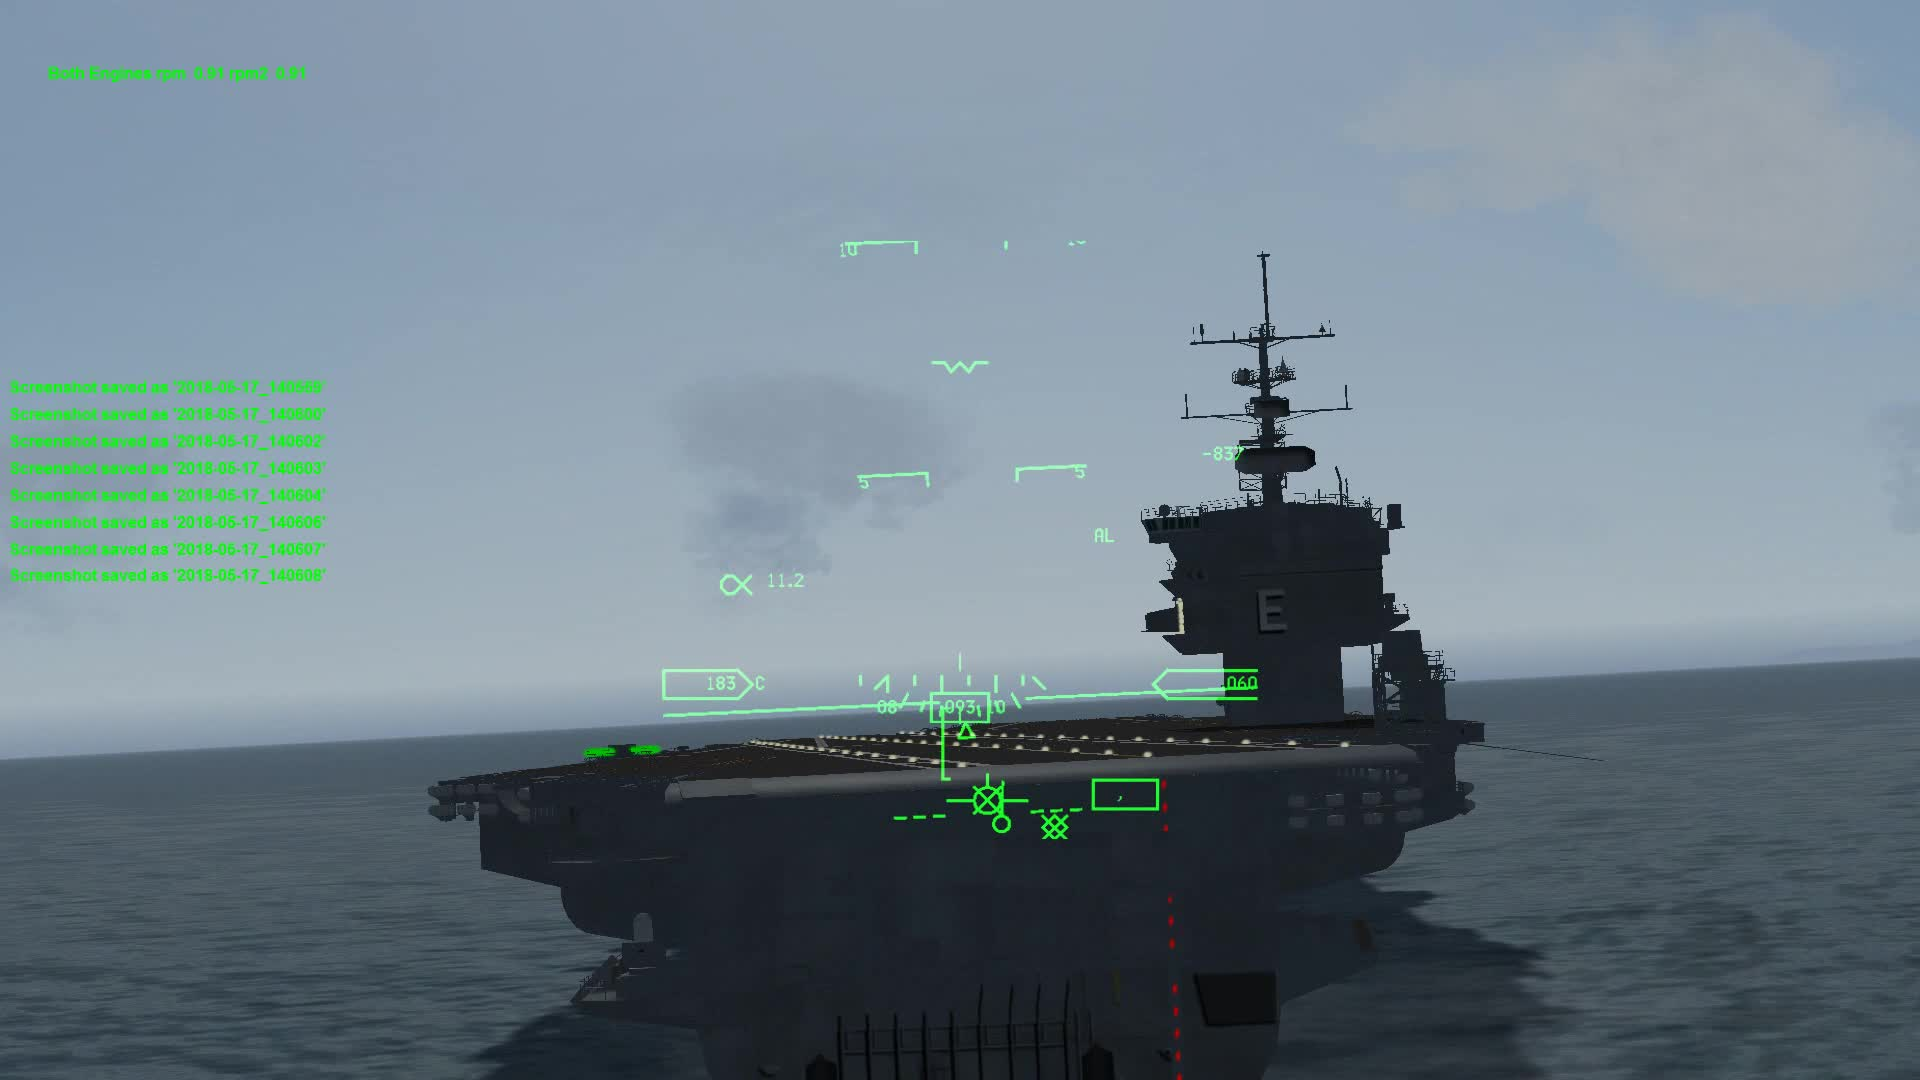speed vector: (949, 775, 1040, 816)
